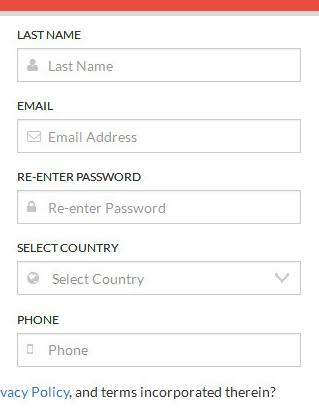field: (16, 188, 303, 225), (16, 331, 302, 368), (14, 47, 302, 83), (16, 118, 303, 154), (16, 260, 302, 296)
field_with_label: (14, 100, 305, 156), (12, 29, 303, 84), (14, 243, 304, 298), (13, 315, 302, 370), (13, 173, 305, 227)
